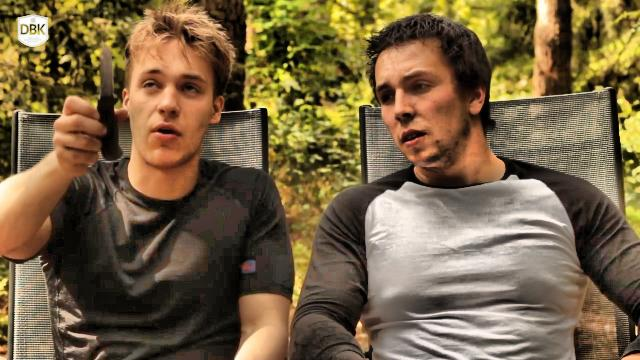knife: (60, 33, 124, 143)
